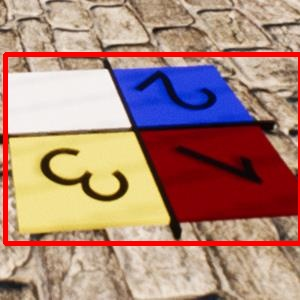nfpa: (5, 54, 300, 243)
